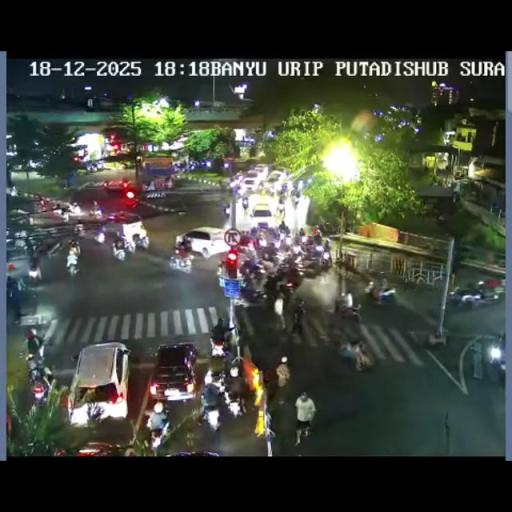Car: (66, 341, 132, 425), (148, 342, 198, 404), (175, 226, 230, 260), (65, 440, 127, 456), (103, 178, 133, 193), (250, 202, 273, 221), (242, 174, 262, 192), (266, 170, 286, 186), (252, 163, 270, 177)
Motorcycle: (229, 224, 332, 304), (26, 353, 54, 405), (336, 338, 372, 371), (146, 404, 170, 450), (198, 393, 222, 432), (235, 280, 266, 307), (222, 382, 244, 418), (239, 256, 265, 281), (290, 300, 306, 338), (279, 264, 301, 290), (372, 278, 394, 304), (26, 329, 44, 360), (264, 272, 282, 302), (476, 286, 502, 306), (206, 366, 227, 390), (339, 301, 362, 322), (294, 421, 313, 446), (223, 325, 239, 354), (209, 334, 227, 358), (262, 412, 275, 443), (257, 243, 278, 262), (427, 328, 447, 347), (66, 250, 80, 276), (274, 294, 284, 330), (46, 238, 64, 256), (112, 239, 126, 261), (28, 260, 42, 282), (496, 354, 506, 384), (134, 232, 150, 250), (228, 356, 241, 378), (6, 275, 18, 298), (318, 247, 331, 268), (92, 225, 106, 244), (25, 236, 37, 258), (32, 198, 46, 213), (289, 242, 302, 258), (255, 230, 267, 247), (88, 206, 103, 219), (173, 160, 188, 173), (74, 222, 86, 238), (363, 280, 375, 296), (216, 258, 227, 275), (68, 202, 82, 214), (276, 200, 285, 217), (16, 276, 26, 291), (60, 208, 70, 222), (278, 182, 288, 196), (313, 229, 322, 244), (278, 222, 288, 235), (182, 236, 191, 250), (8, 185, 18, 197), (85, 162, 96, 172), (188, 160, 198, 171), (95, 160, 106, 170), (300, 234, 309, 246), (242, 200, 249, 214), (250, 226, 258, 238), (294, 194, 300, 208), (224, 205, 230, 218), (299, 226, 305, 237)
